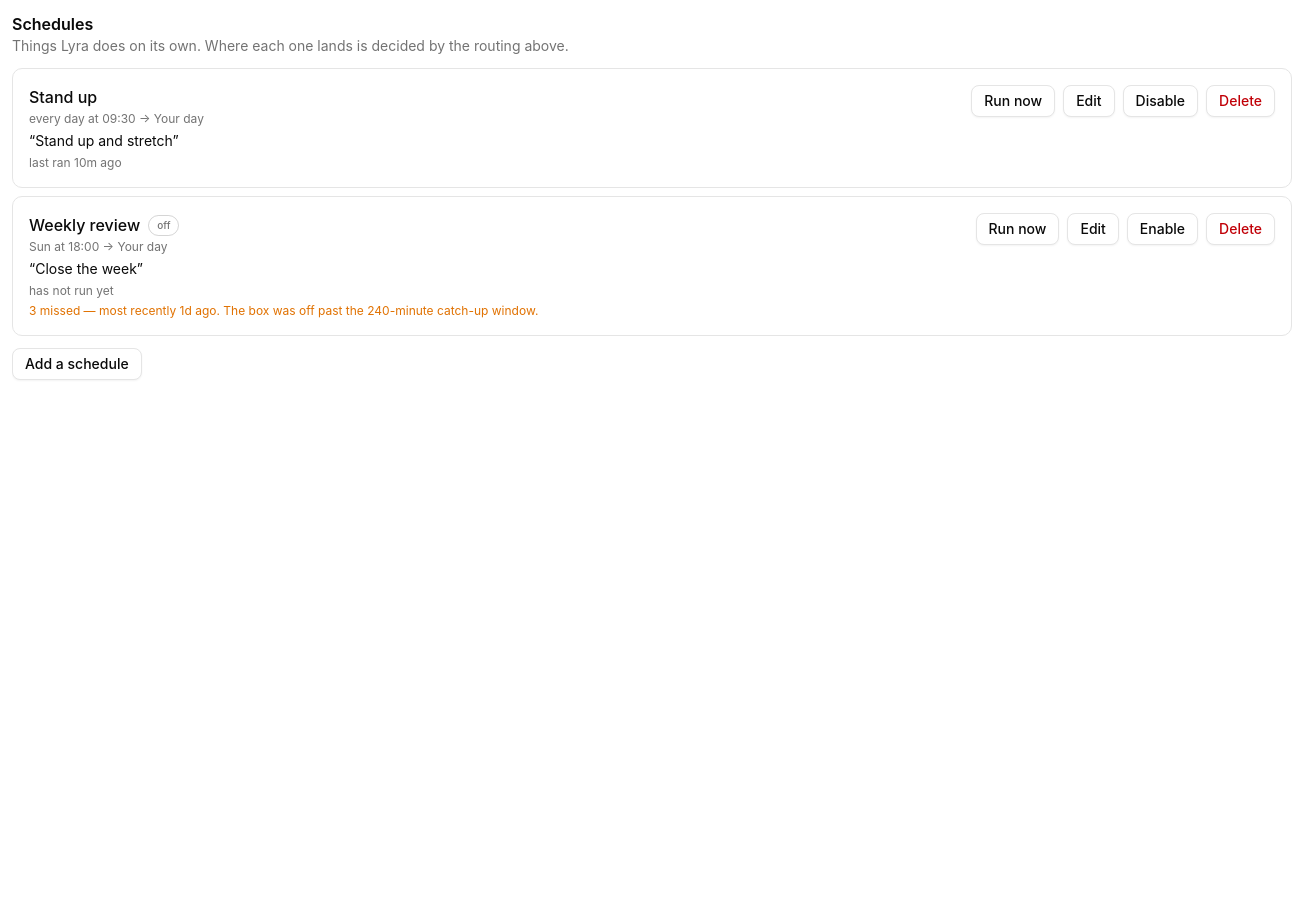
Test: adding one › needs a name and a message before it will send anything
This screenshot has width=1292, height=912.
What coordinates should you click on to do the following:
click the button "Add a schedule"
I would click on:
 (77, 364)
Its box is [12,348,142,380].
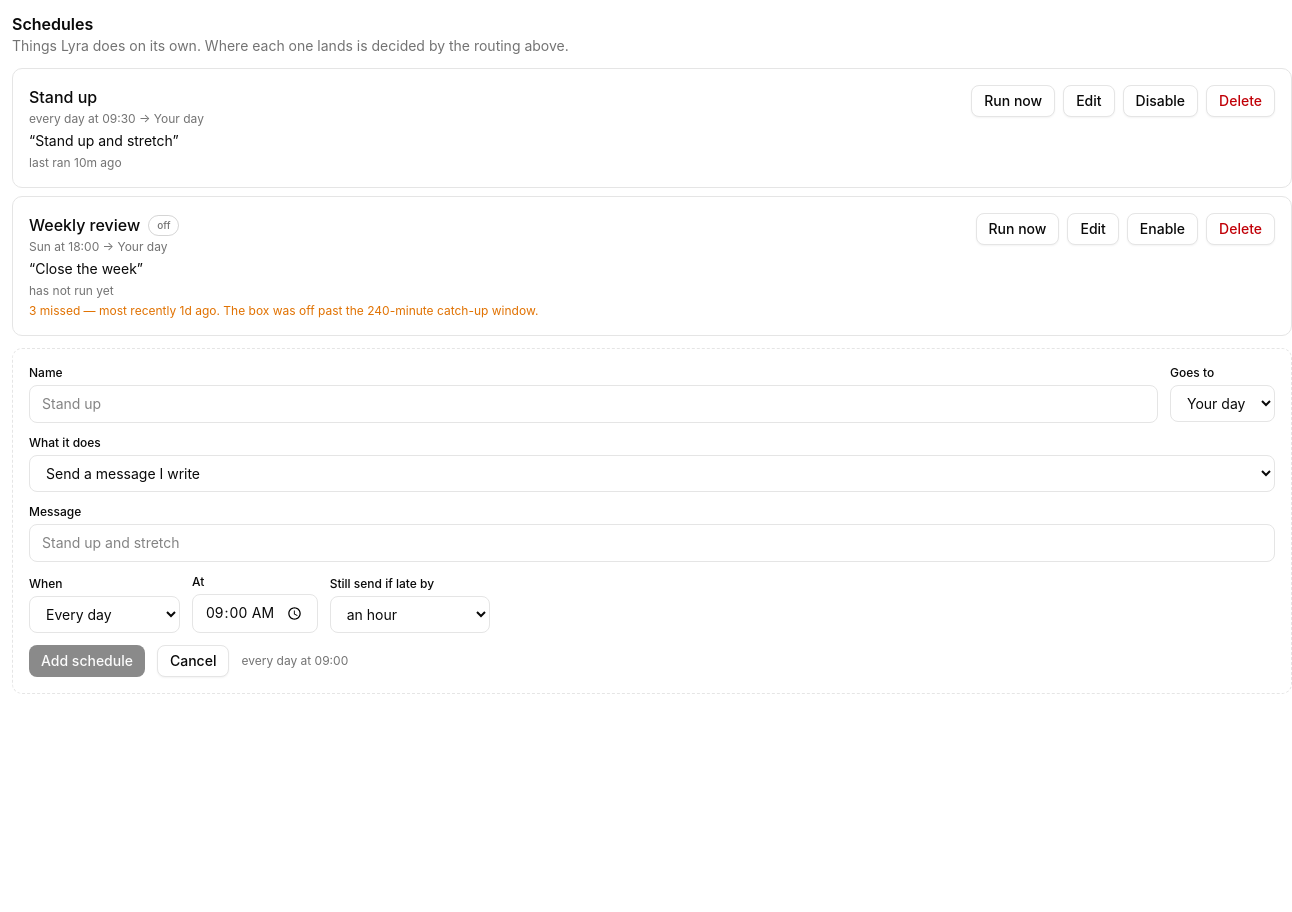
Result: the field labelled "Name" is shown at [29,385,1158,423]
Result: the button "Add schedule" is disabled at [29,645,145,677]
